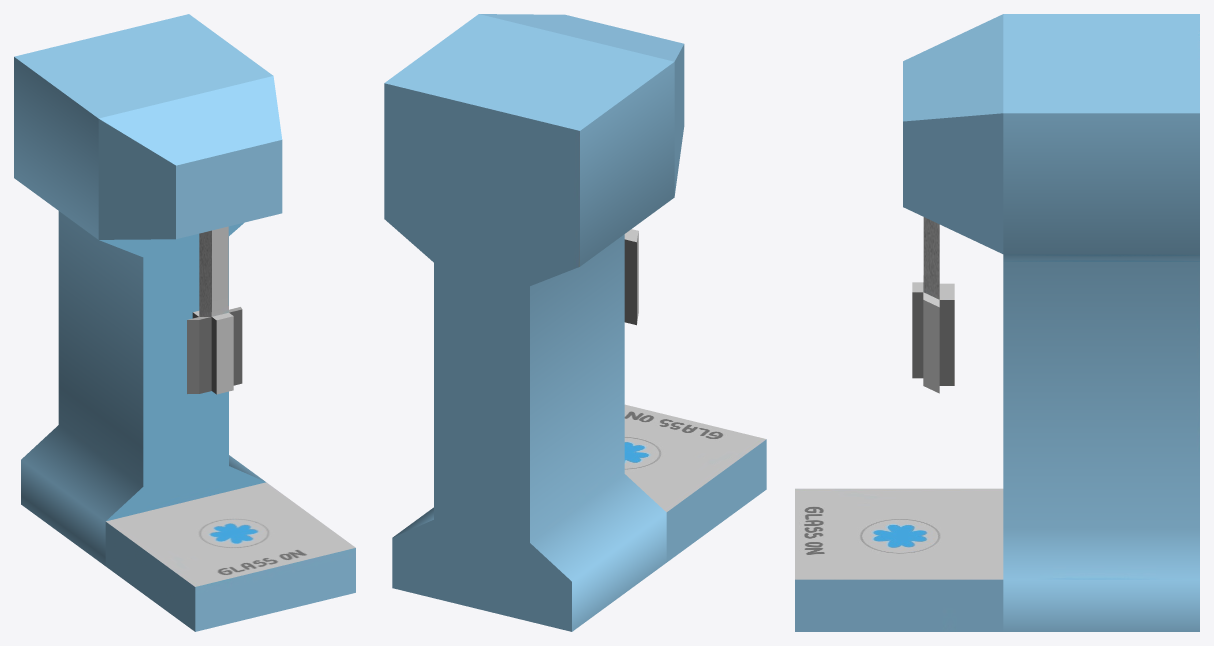
File: Batidora.fbx
3 renders of one model, left to right at view 1: azimuth 30°, elevation 25°; view 2: azimuth 150°, elevation 25°; view 3: azimuth 270°, elevation 25°, orthographic. The views are drawn at different scales.
Parts seen in each view (by area): view 1: Batidora; view 2: Batidora; view 3: Batidora.
Part boxes in pixels (x1,y1,x2,y2): Batidora: [14, 14, 355, 631]; Batidora: [384, 14, 766, 631]; Batidora: [795, 14, 1199, 631].
Bounding box in the file's own units: 1.09 × 2.67 × 1.88.
